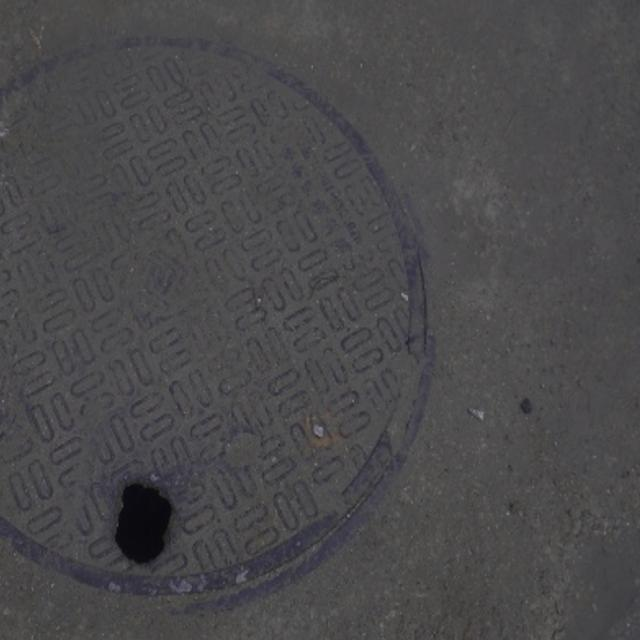broke: (0, 31, 431, 620)
